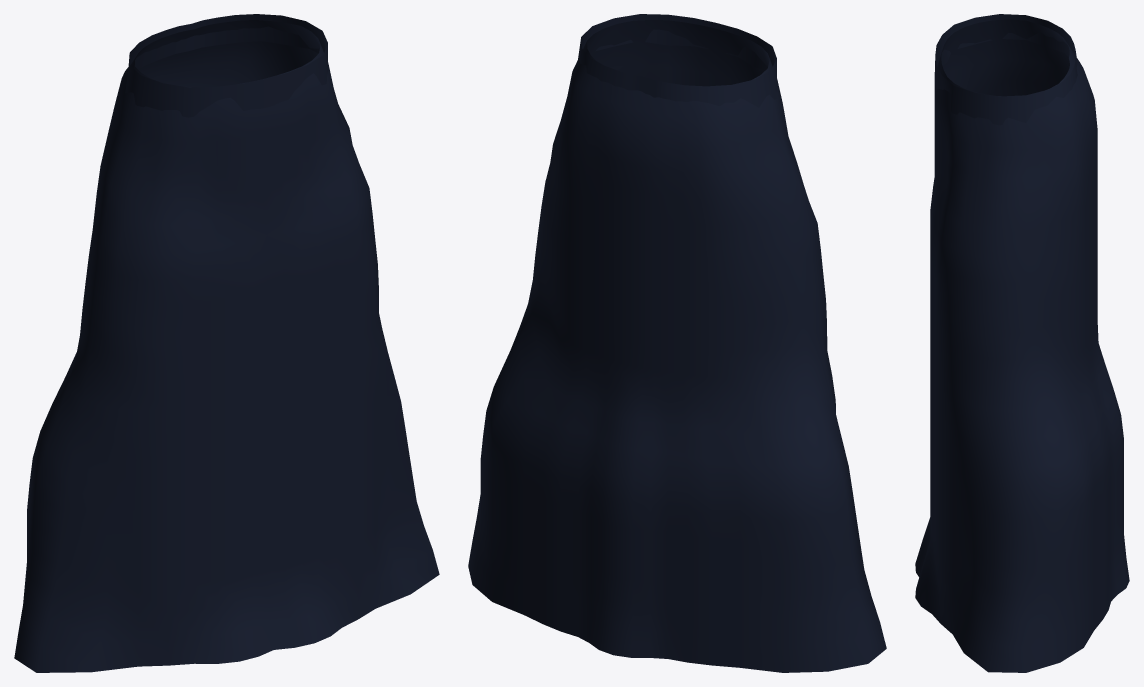
File: hakama.glb
3 renders of one model, left to right at view 1: azimuth 30°, elevation 25°; view 2: azimuth 150°, elevation 25°; view 3: azimuth 270°, elevation 25°, orthographic. The views are drawn at different scales.
Parts seen in each view (by area): view 1: hakama; view 2: hakama; view 3: hakama.
Boxes of the visible parts, x1,y1,x2,y2 form: hakama: [14, 14, 439, 672]; hakama: [468, 14, 886, 672]; hakama: [915, 14, 1129, 672].
Size of the model in its own units: 0.737 by 0.9804 by 0.3623.
